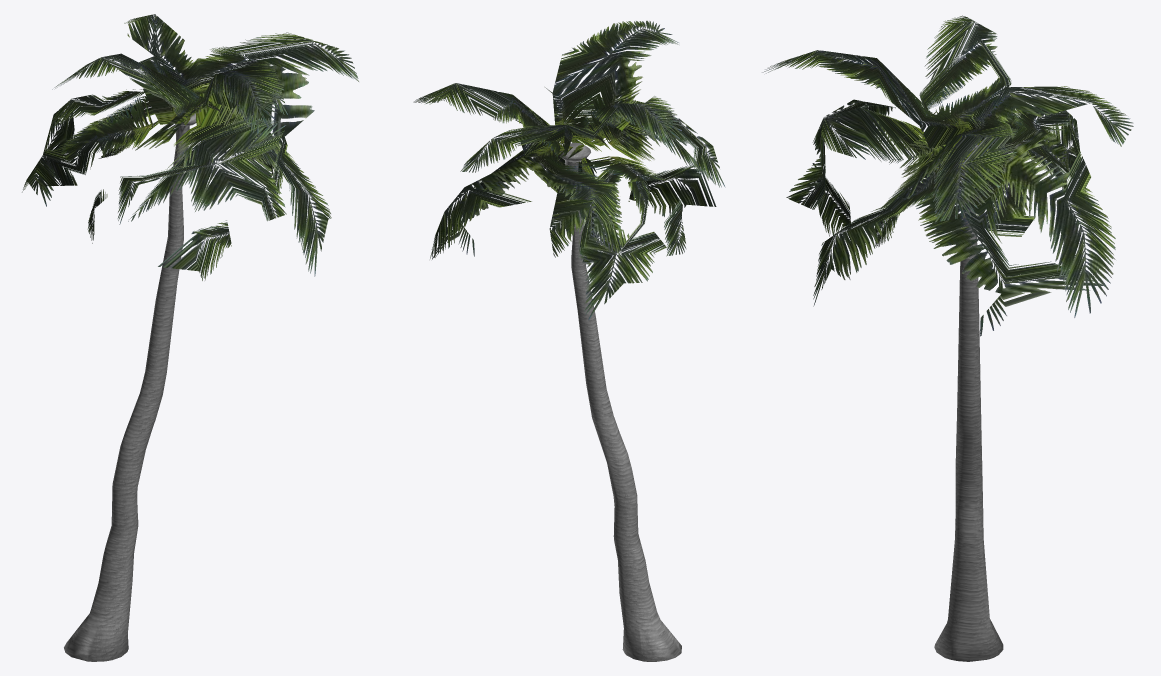
File: royal-palm.low.glb
The picture shows the model from 3 angles, left to right: view 1: azimuth 30°, elevation 25°; view 2: azimuth 150°, elevation 25°; view 3: azimuth 270°, elevation 25°; orthographic projection. The views are drawn at different scales.
Visible parts, largest first — view 1: fronds, trunk; view 2: fronds, trunk; view 3: fronds, trunk.
Part boxes in pixels (bbox=[...]): fronds: bbox=[22, 14, 358, 280]; trunk: bbox=[64, 113, 196, 661]; fronds: bbox=[413, 20, 725, 320]; trunk: bbox=[559, 142, 681, 661]; fronds: bbox=[762, 15, 1133, 336]; trunk: bbox=[934, 135, 1003, 661].
Bounding box in the file's own units: 2.45 × 4.48 × 2.46.
2 materials, 2 textured.
